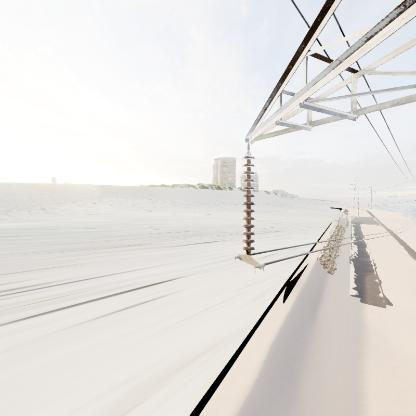insulator: (240, 154, 259, 257)
